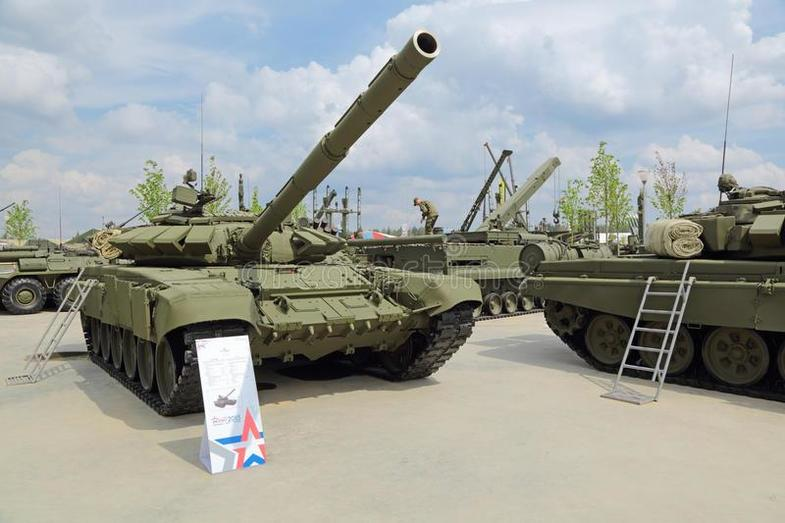t72: (98, 68, 480, 385)
